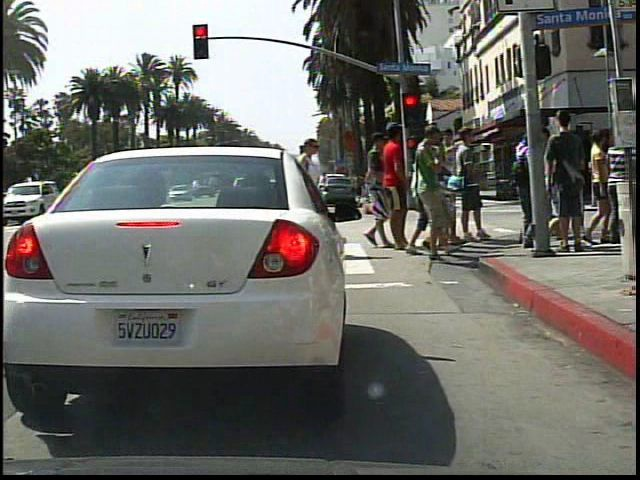person: (297, 131, 326, 171)
